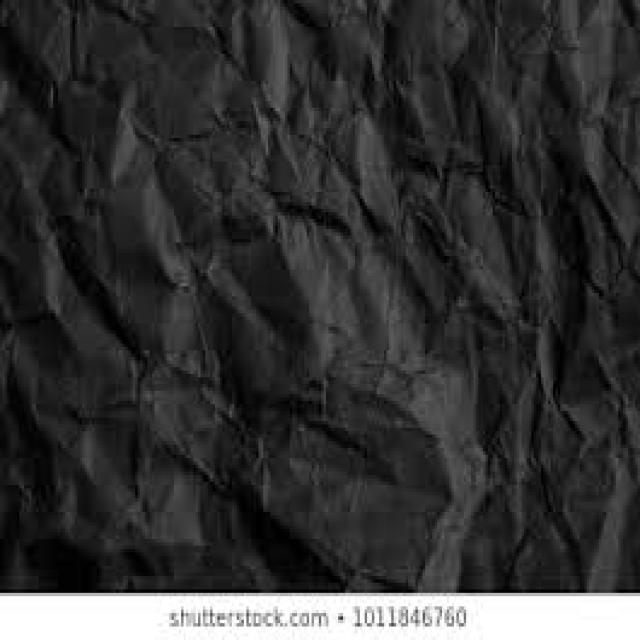paper: (0, 0, 637, 589)
